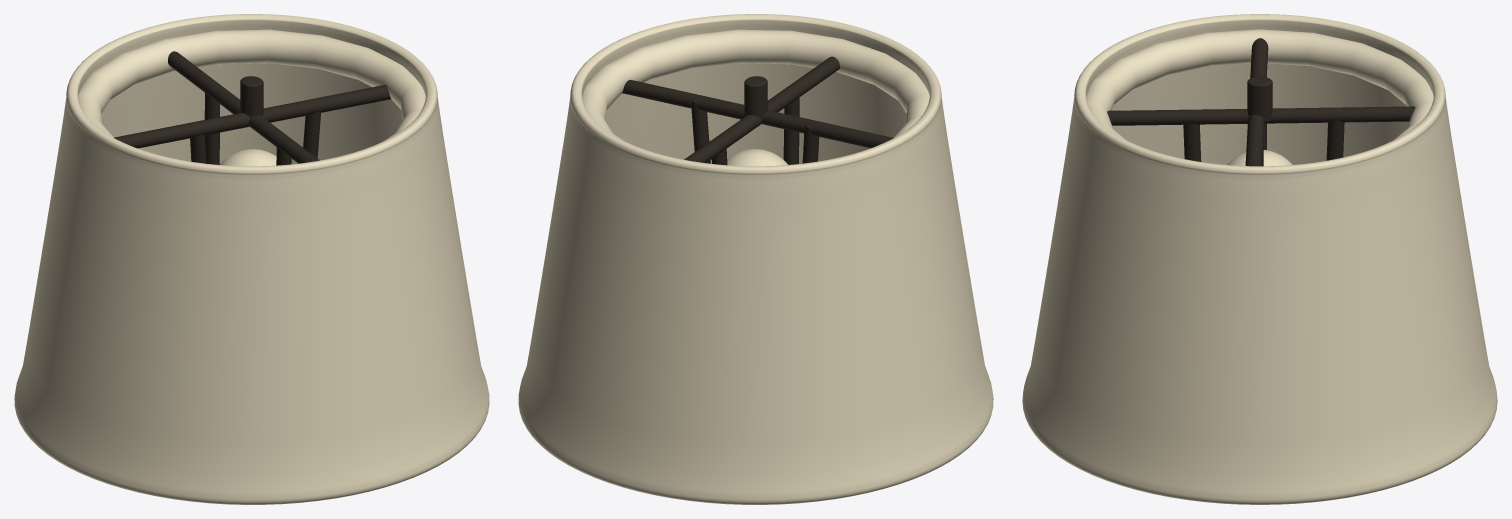
Rendered from Lamp Project 1.fbx.
3 renders of one model, left to right at view 1: azimuth 30°, elevation 25°; view 2: azimuth 150°, elevation 25°; view 3: azimuth 270°, elevation 25°, orthographic.
Parts seen in each view (by area): view 1: pPipe1, pTorus1, pCylinder3, pCylinder2, pCylinder1, pSphere1, pCylinder9, pCylinder7; view 2: pPipe1, pTorus1, pCylinder3, pCylinder2, pCylinder1, pSphere1, pCylinder10, pCylinder7; view 3: pPipe1, pTorus1, pCylinder2, pCylinder3, pCylinder1, pCylinder9, pCylinder10.
Boxes of the visible parts, x1,y1,x2,y2 form: pPipe1: (14, 14, 489, 504); pTorus1: (78, 29, 425, 141); pCylinder3: (114, 85, 391, 148); pCylinder2: (168, 51, 319, 163); pCylinder1: (240, 76, 263, 116); pSphere1: (220, 149, 276, 166); pCylinder9: (204, 93, 219, 164); pCylinder7: (303, 105, 320, 158); pPipe1: (518, 14, 993, 504); pTorus1: (582, 29, 929, 141); pCylinder3: (622, 79, 893, 148); pCylinder2: (684, 56, 839, 163); pCylinder1: (744, 76, 767, 121); pSphere1: (727, 149, 787, 166); pCylinder10: (783, 97, 799, 164); pCylinder7: (691, 100, 710, 163); pPipe1: (1022, 14, 1497, 504); pTorus1: (1086, 29, 1433, 139); pCylinder2: (1107, 106, 1415, 125); pCylinder3: (1245, 38, 1268, 166); pCylinder1: (1247, 76, 1272, 121); pCylinder9: (1326, 120, 1344, 160); pCylinder10: (1183, 116, 1201, 161).
Bounding box in the file's own units: 10.96 × 8.3 × 10.96.
